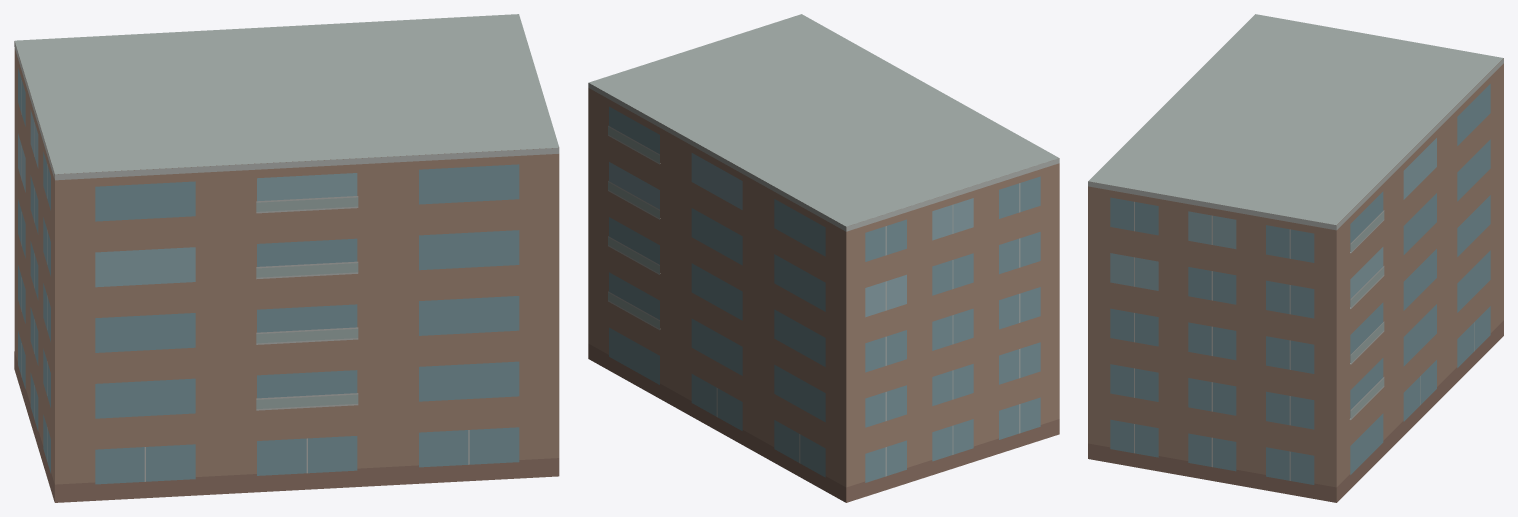
The model's file is survey-upis-32732628.glb.
3 renders of one model, left to right at view 1: azimuth 30°, elevation 25°; view 2: azimuth 150°, elevation 25°; view 3: azimuth 270°, elevation 25°, orthographic. The views are drawn at different scales.
Visible parts, largest first — view 1: survey-upis-32732628.tmp; view 2: survey-upis-32732628.tmp; view 3: survey-upis-32732628.tmp.
Boxes of the visible parts, left/top/right/bottom form: survey-upis-32732628.tmp: left=14, top=14, right=559, bottom=502; survey-upis-32732628.tmp: left=588, top=14, right=1059, bottom=502; survey-upis-32732628.tmp: left=1088, top=14, right=1503, bottom=502.
Size of the model in its own units: 21.55 by 13.2 by 17.92.
